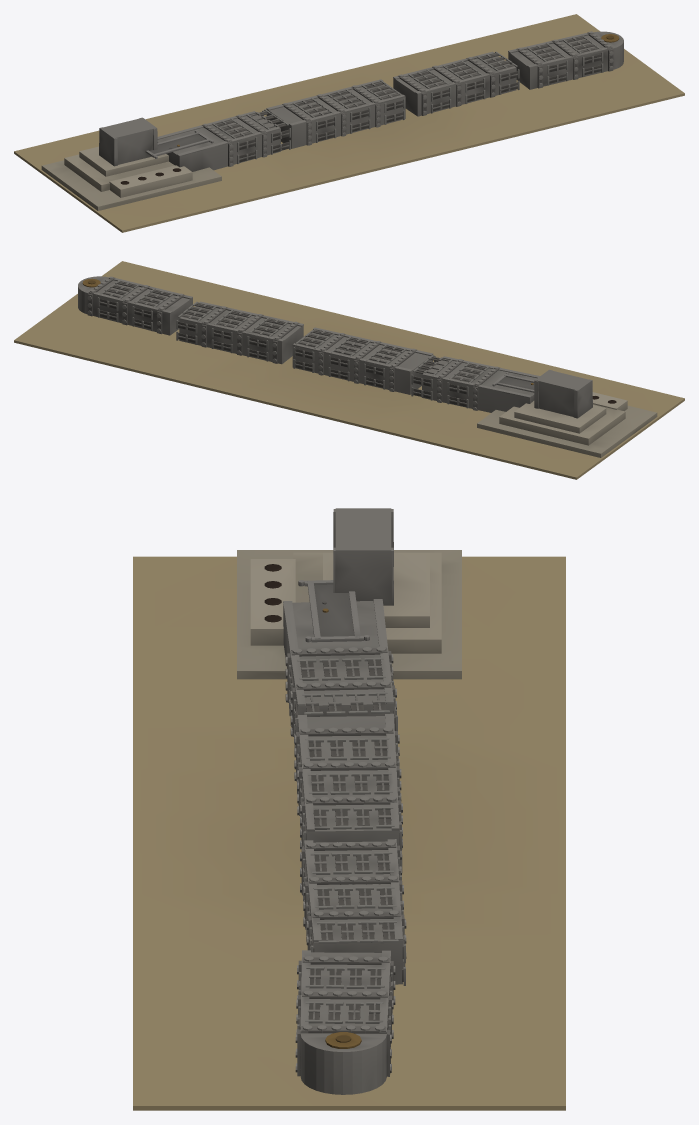
File: rome-stele-fallen.glb
3 views of the same model, one above another, from view 1: azimuth 30°, elevation 25°; view 2: azimuth 150°, elevation 25°; view 3: azimuth 270°, elevation 25° (orthographic). The views are drawn at different scales.
Parts seen in each view (by area): view 1: p0_platform, p1_stele; view 2: p0_platform, p1_stele; view 3: p0_platform, p1_stele.
Boxes of the visible parts, box(x1,y1,x2,y2) form: p0_platform: box(14, 14, 684, 232); p1_stele: box(99, 31, 623, 171); p0_platform: box(14, 261, 684, 479); p1_stele: box(78, 276, 592, 418); p0_platform: box(133, 550, 565, 1110); p1_stele: box(283, 508, 406, 1094).
Size of the model in its own units: 30 by 2.41 by 10.
